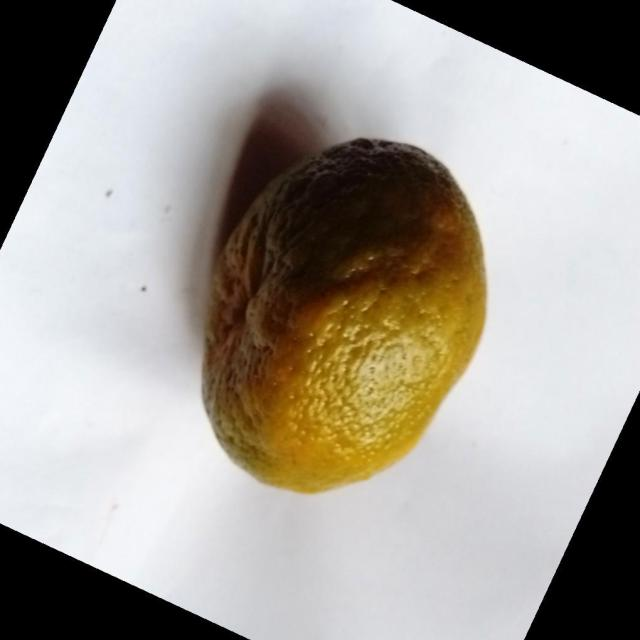fresh orange: (200, 135, 488, 494)
